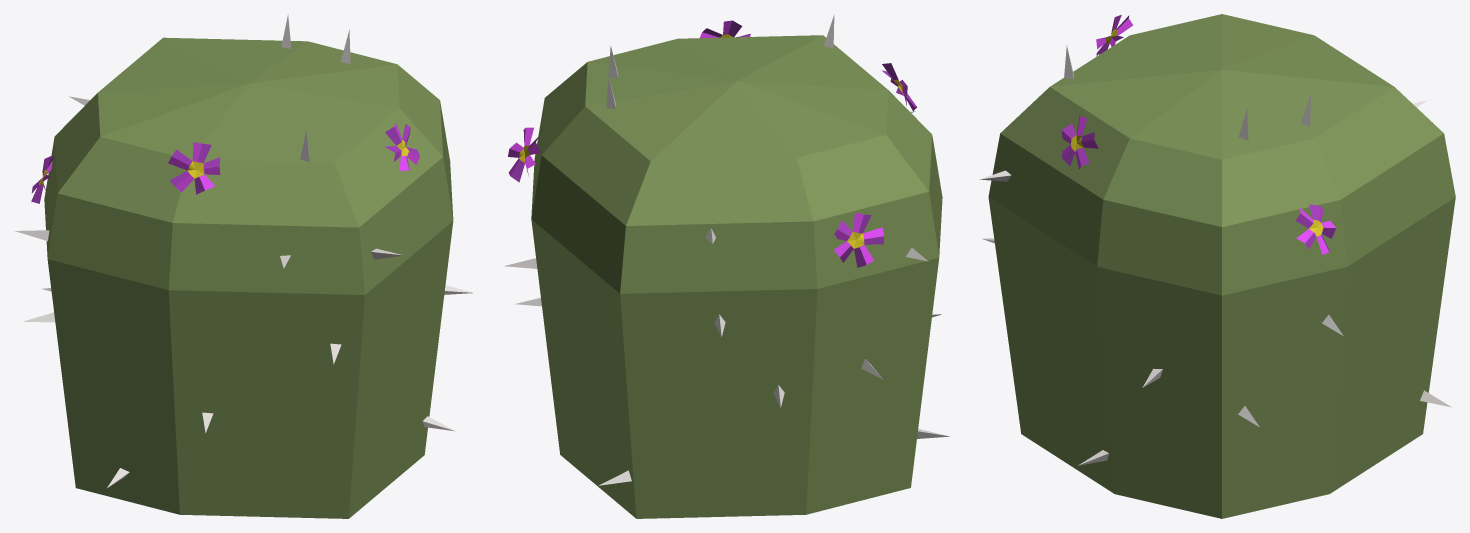
File: cactus3.gltf
3 views of the same model, side by side, from view 1: azimuth 30°, elevation 25°; view 2: azimuth 150°, elevation 25°; view 3: azimuth 270°, elevation 25° (orthographic).
Parts seen in each view (by area): view 1: cactus, fleur, epines; view 2: cactus, fleur, epines; view 3: cactus, fleur, epines.
Boxes of the visible parts, <box> form: cactus: <box>44,37,453,518</box>; fleur: <box>31,123,419,203</box>; epines: <box>15,14,473,487</box>; cactus: <box>531,35,942,518</box>; fleur: <box>508,20,916,267</box>; epines: <box>503,15,949,485</box>; cactus: <box>988,14,1455,518</box>; fleur: <box>1061,15,1336,254</box>; epines: <box>979,45,1451,465</box>.
Bounding box in the file's own units: 1.08 × 0.9476 × 1.07.
Materials: 5 (5 with a texture image).
